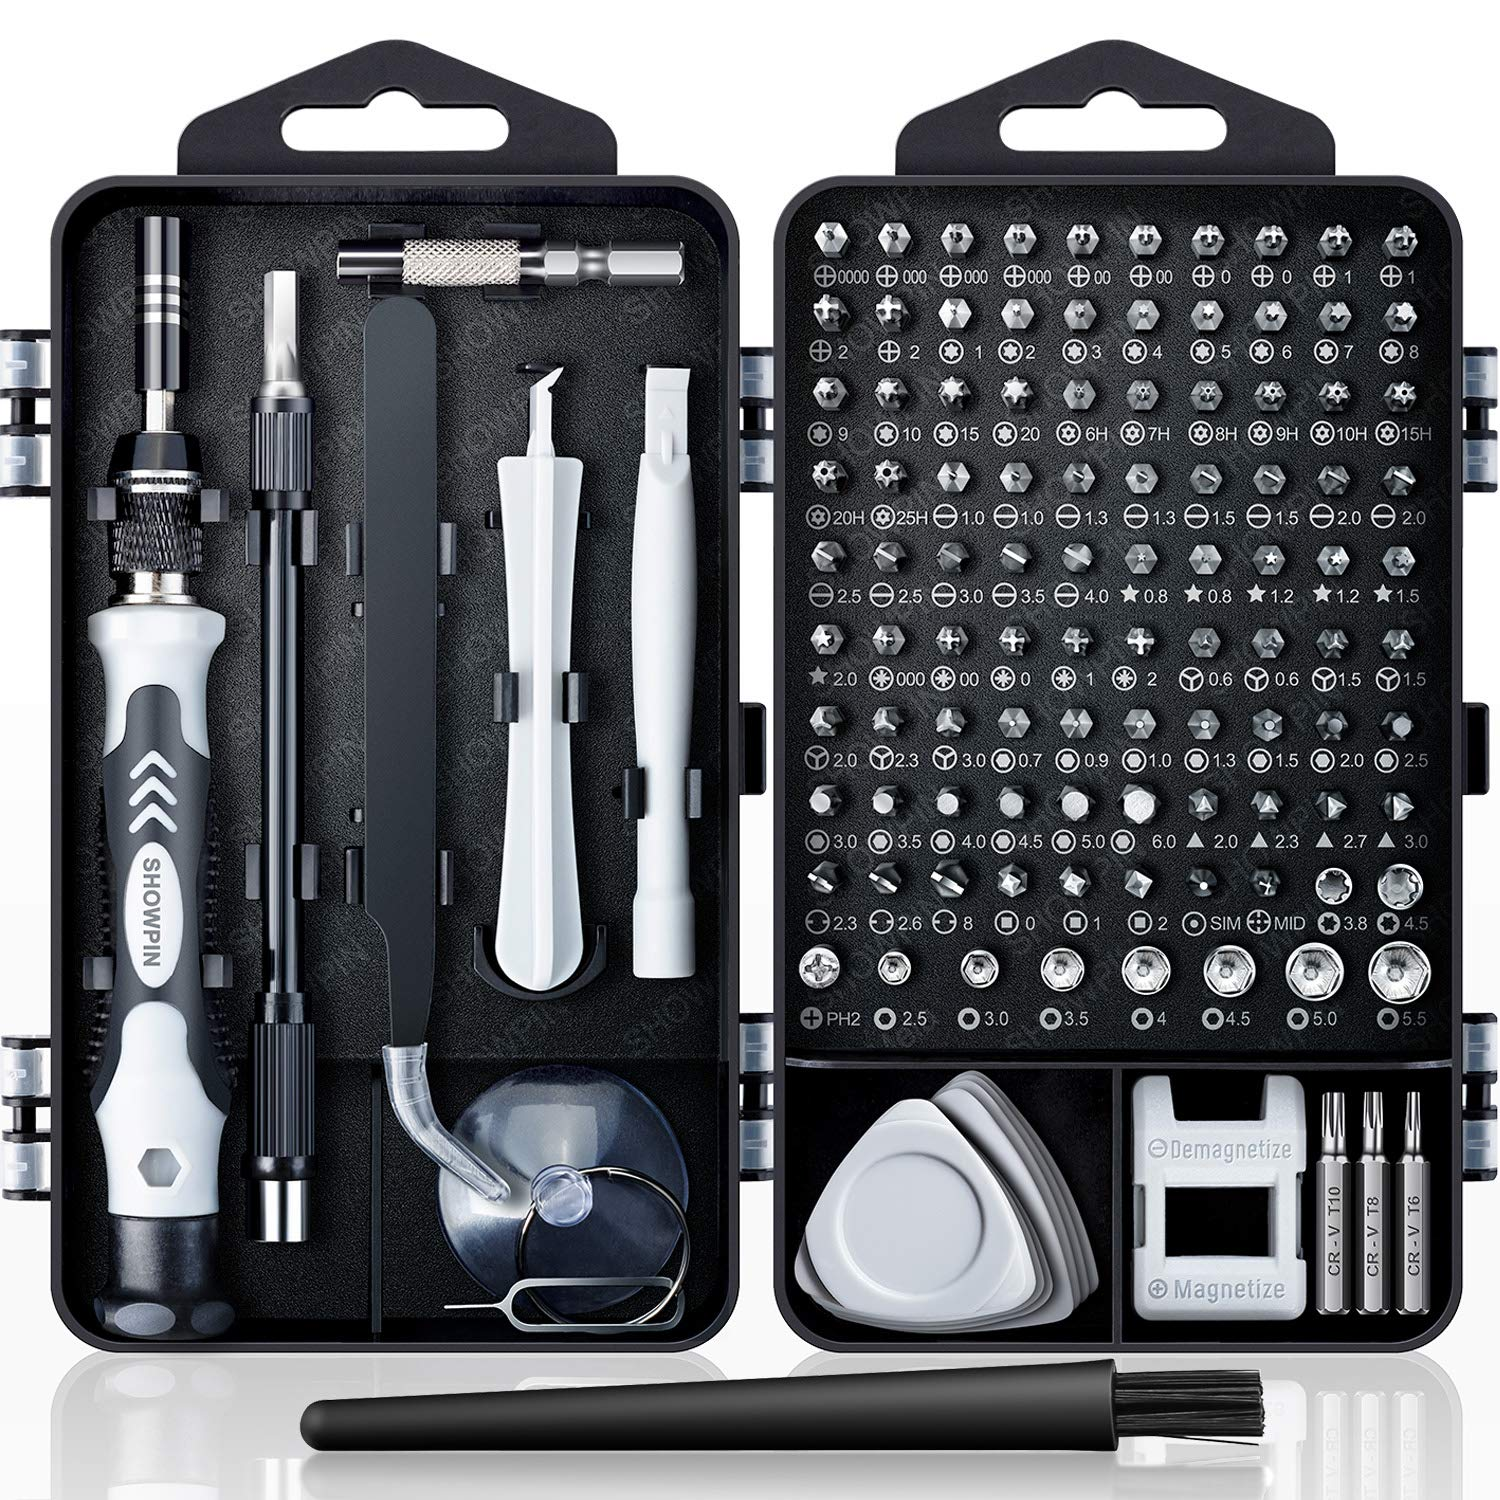screwdriver: (60, 210, 231, 1341), (247, 255, 335, 1262)
